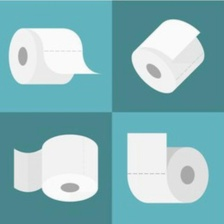tissue: (119, 128, 212, 209), (7, 130, 104, 207), (125, 14, 208, 99), (3, 23, 104, 90)
